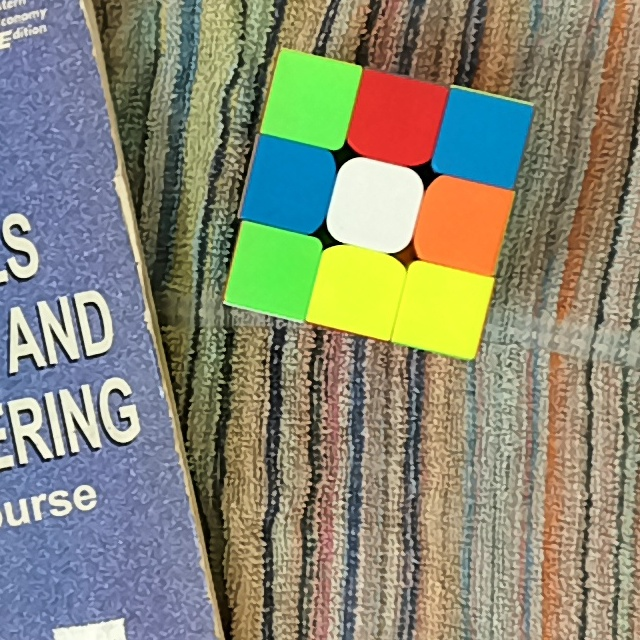tile: (428, 191, 498, 258), (256, 153, 324, 220), (451, 102, 517, 170), (361, 88, 428, 154), (279, 66, 344, 132), (343, 173, 408, 239), (409, 278, 475, 341), (324, 261, 390, 322), (240, 241, 305, 302)
